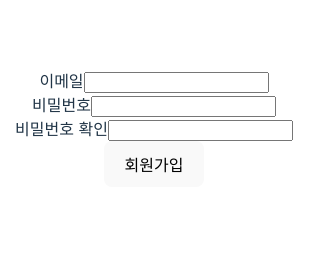
it: 회원가입 폼 컴포넌트 › 올바르지 않은 이메일 값 입력 시, '유효한 이메일을 입력해주세요.' 문구가 출력된다.
The width and height of the screenshot is (320, 260).
In the field labelled "이메일": (176, 83) [84,72,269,93], type "invalid email"
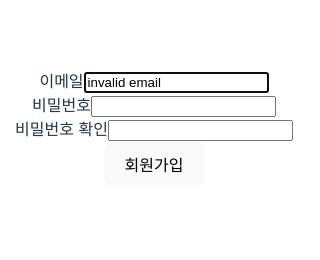
Click the button "회원가입": (154, 164) [104,141,204,187]
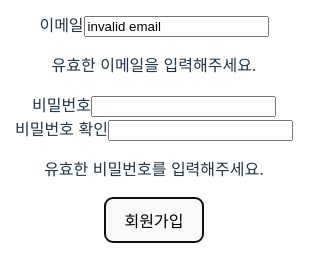
Check: the text "유효한 이메일을 입력해주세요." is shown, box [52,55,256,75]
